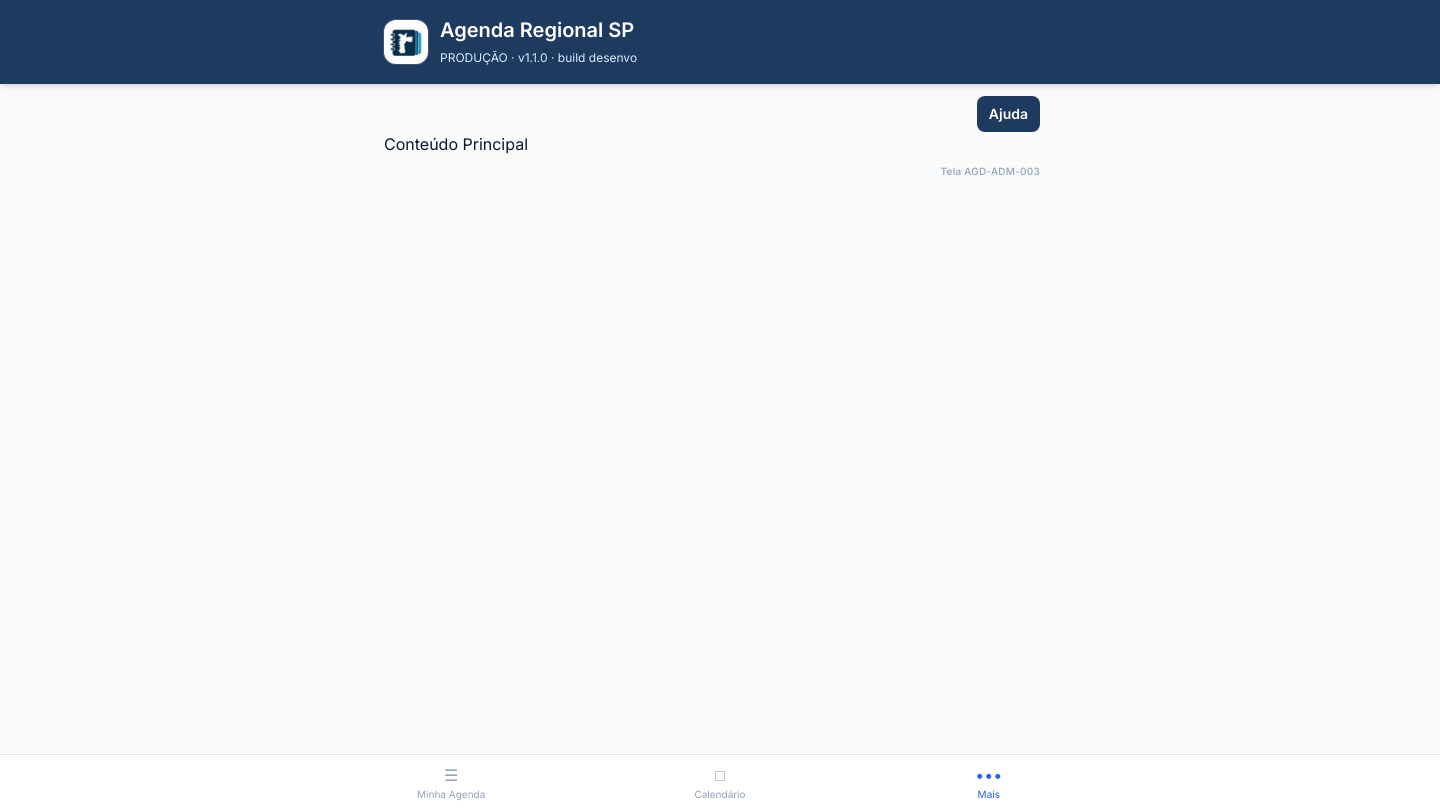
it: Navegação e Visibilidade de Permissões — S12 Frontend › 3. GESTOR_RELATORIOS isolado vê Relatórios, mas NÃO vê Portaria nem Auditoria
Click the button "••• Mais" at [989, 782], box [922,755,1056,809]
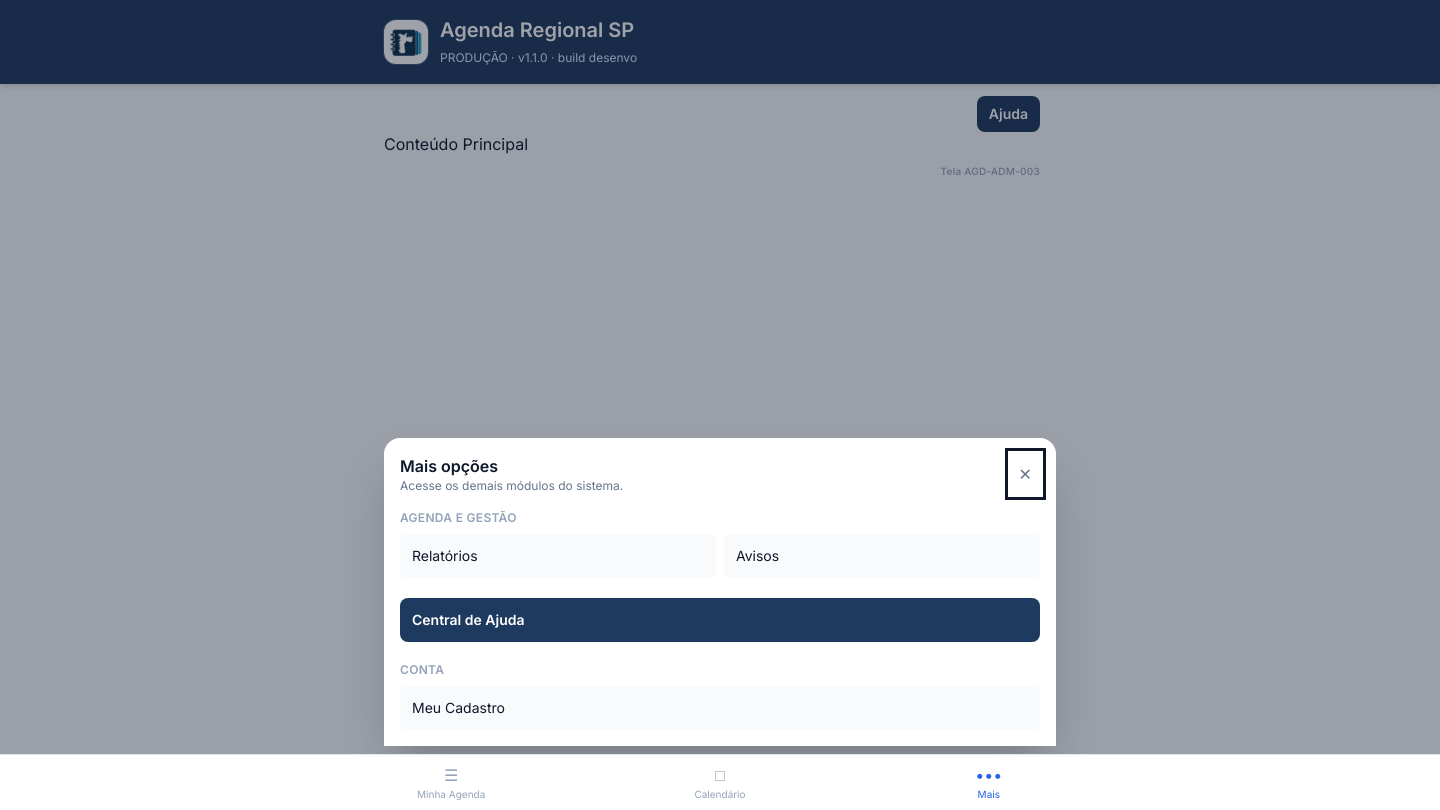
Now the button "Relatórios" is shown, box [400,534,716,578]
